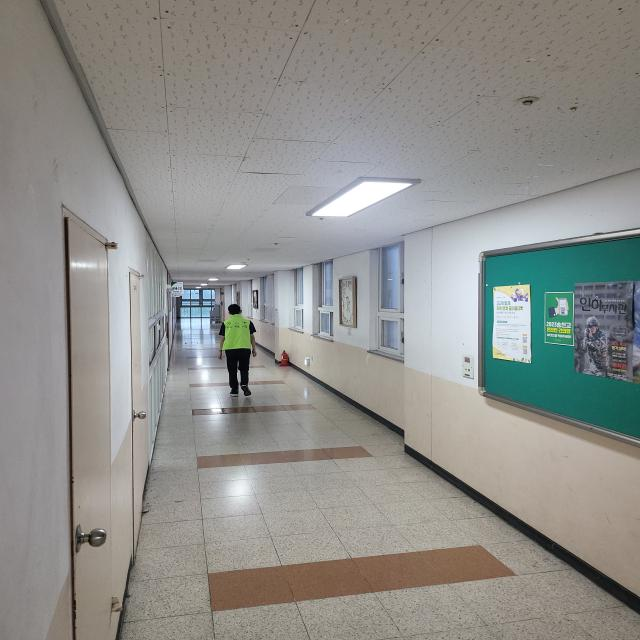weston_spy: (216, 306, 263, 358)
